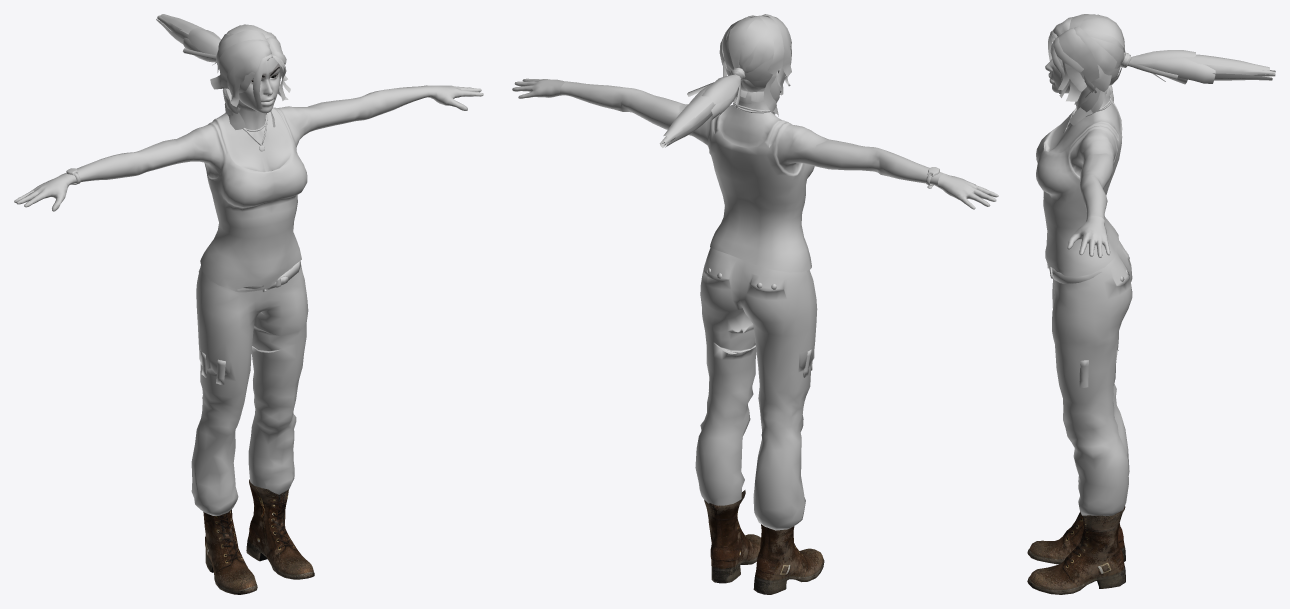
File: Lara_Croft.obj
3 renders of one model, left to right at view 1: azimuth 30°, elevation 25°; view 2: azimuth 150°, elevation 25°; view 3: azimuth 270°, elevation 25°, orthographic. The views are drawn at different scales.
Size of the model in its own units: 3.27 by 3.64 by 1.47.
